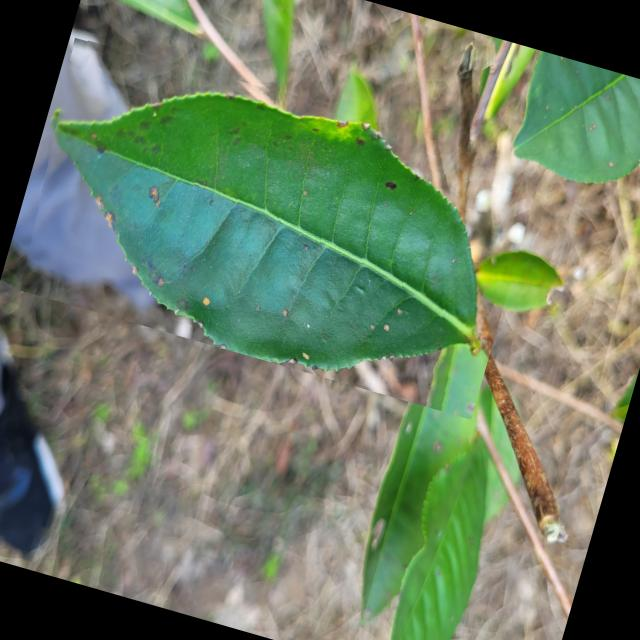Category D 7+ days, Not for Tea: (2, 27, 544, 420)
